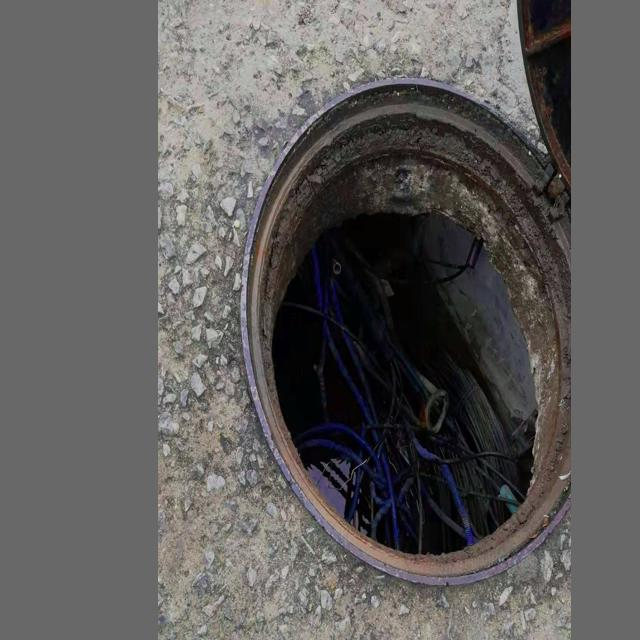lose: (241, 78, 568, 591)
